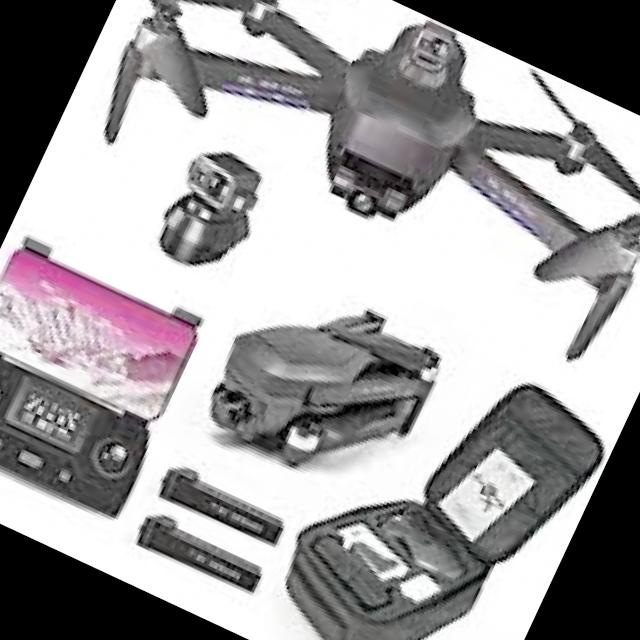drone: (53, 0, 640, 405)
